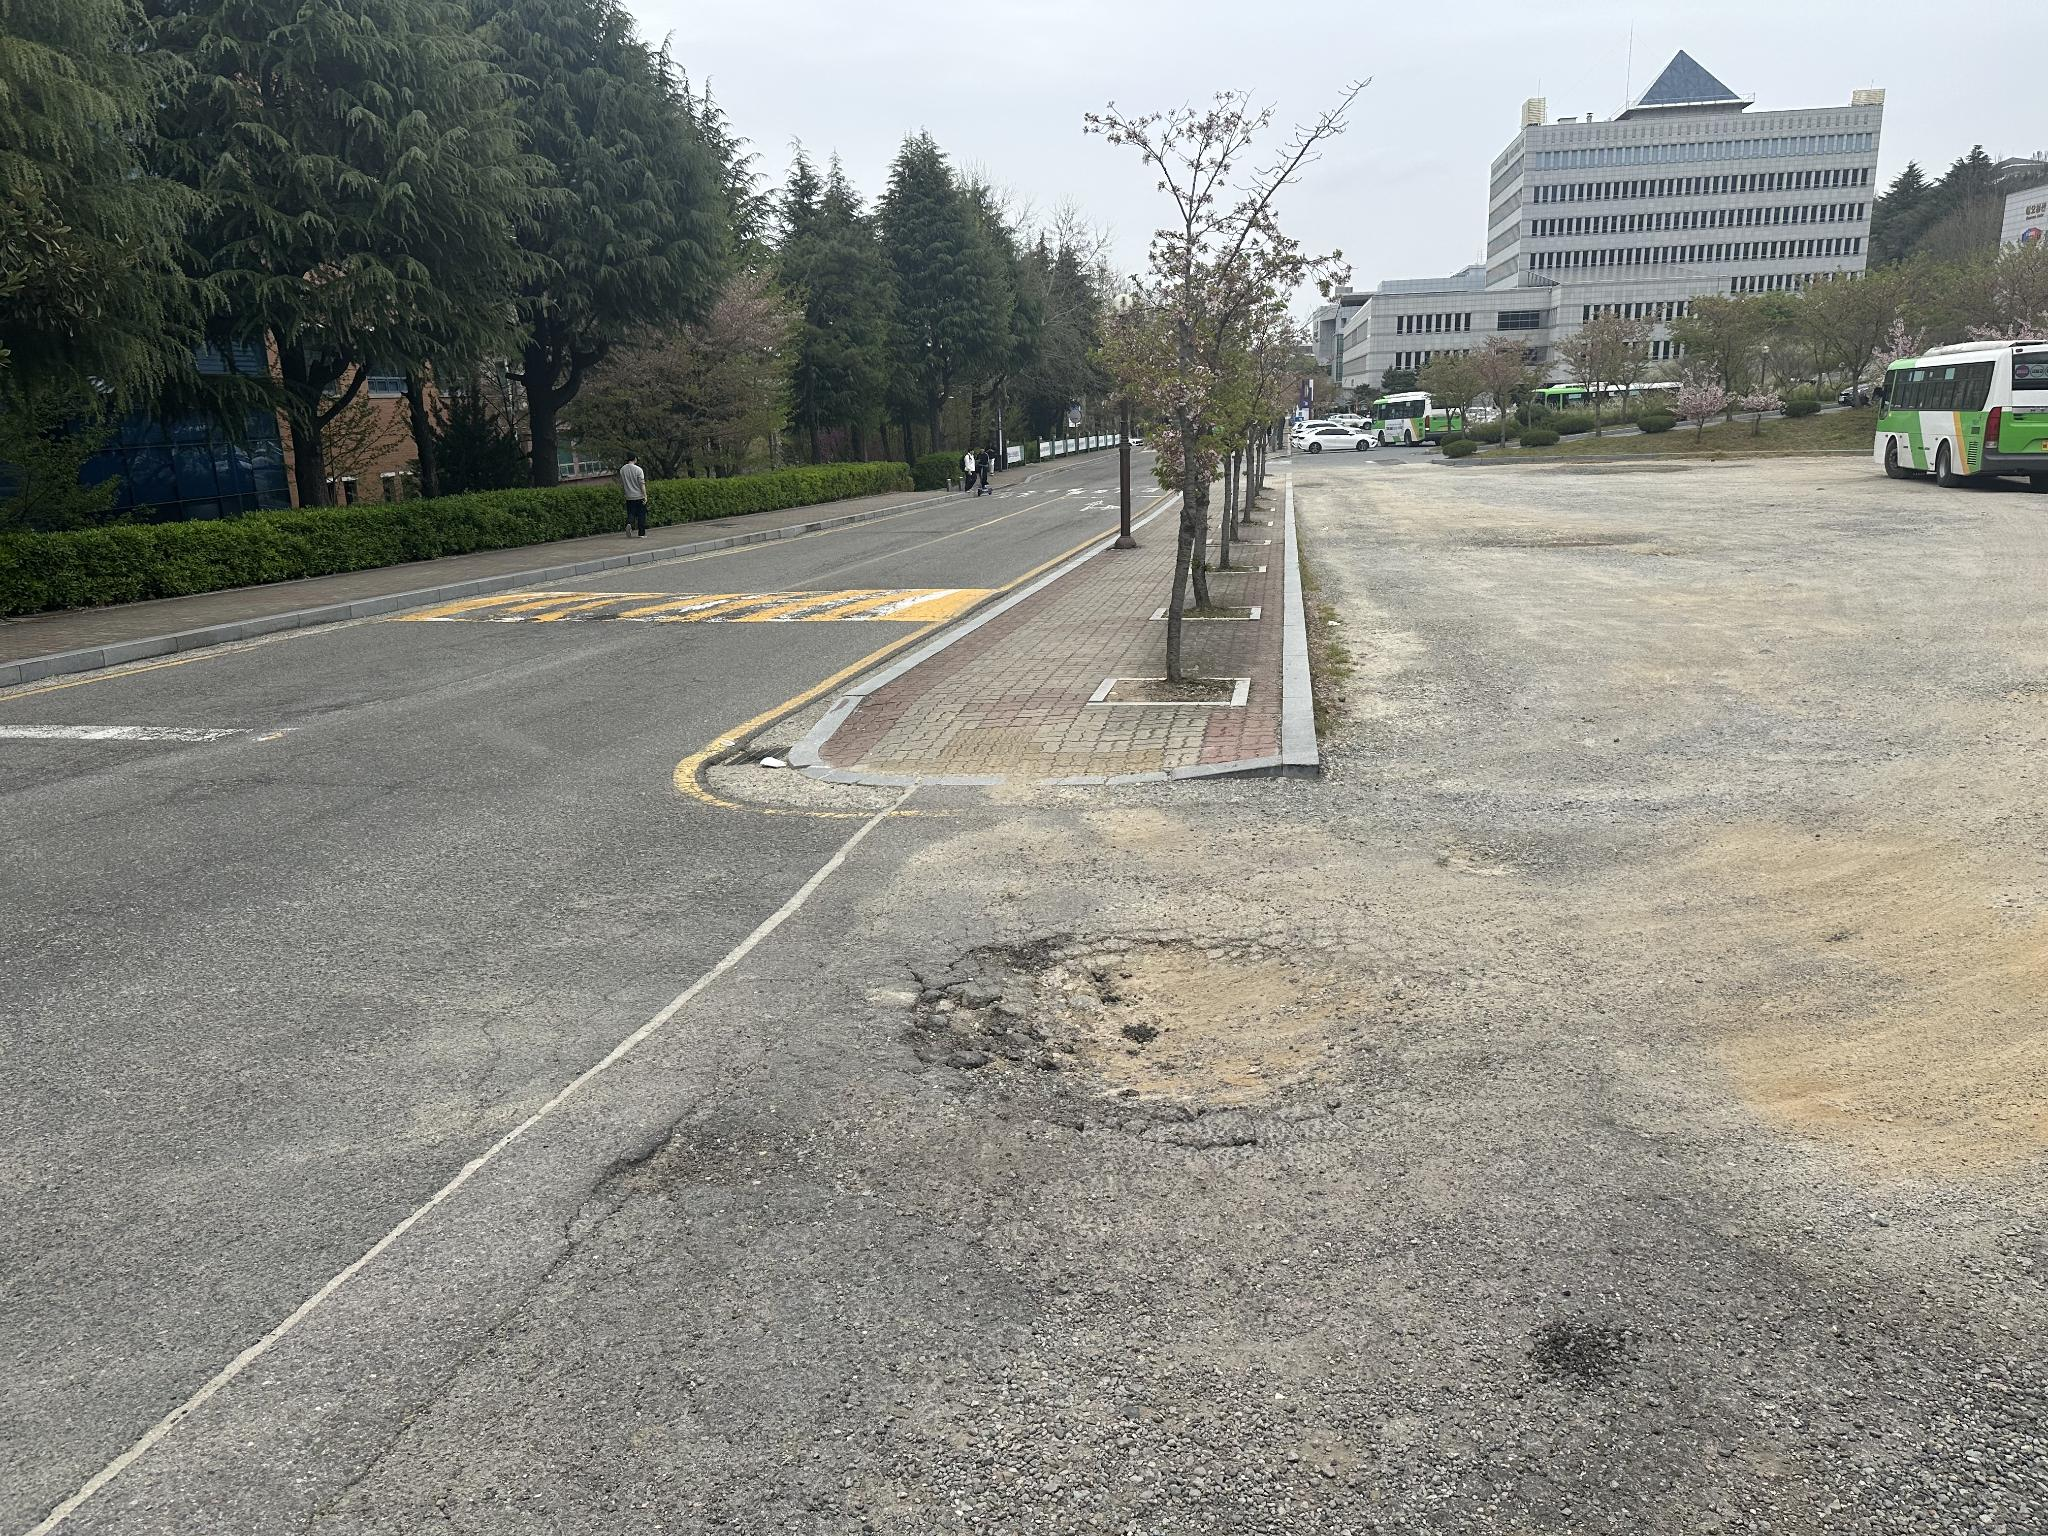pothole: (905, 866, 1437, 1150)
